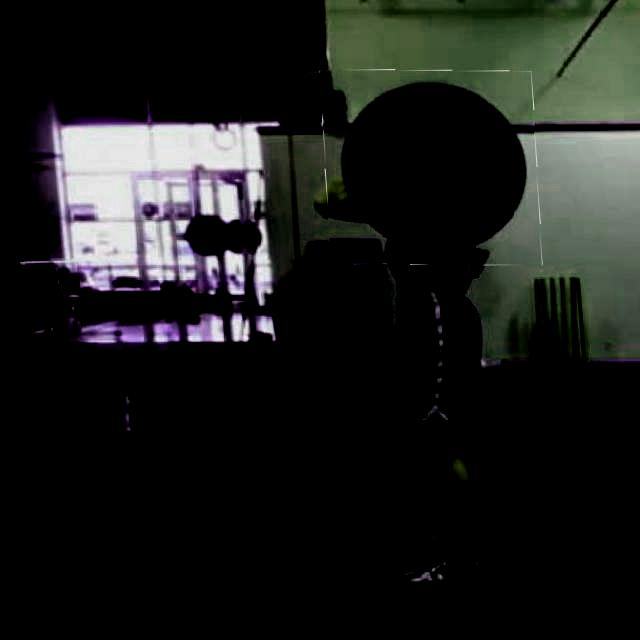barbell: (317, 70, 540, 267)
